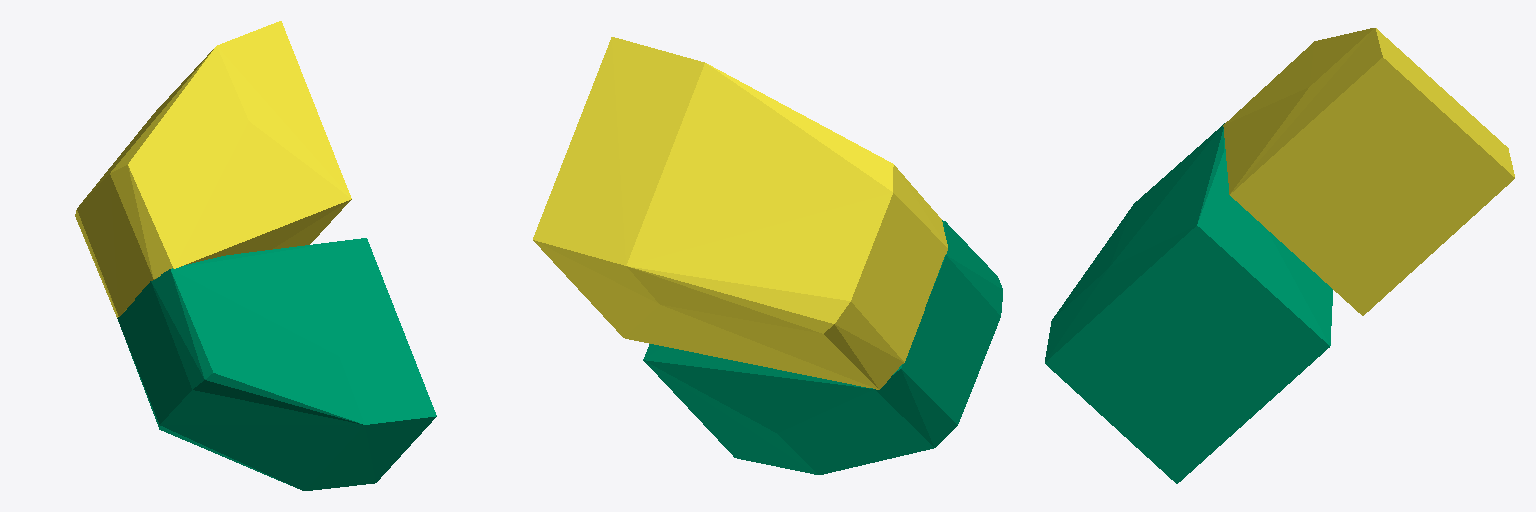
URDF robot description (panda):
<?xml version="1.0" ?>
<!-- =================================================================================== -->
<!-- |    This document was autogenerated by xacro from panda_arm_hand.urdf.xacro      | -->
<!-- |    EDITING THIS FILE BY HAND IS NOT RECOMMENDED                                 | -->
<!-- =================================================================================== -->
<robot name="panda" xmlns:xacro="http://www.ros.org/wiki/xacro">
  <link name="panda_link0">
    <visual>
      <geometry>
        <mesh filename="package://franka_description/meshes/visual/link0.dae"/>
      </geometry>
    </visual>
    <collision>
      <geometry>
        <mesh filename="package://franka_description/meshes/collision/link0.stl"/>
      </geometry>
    </collision>
  </link>
  <link name="panda_link1">
    <visual>
      <geometry>
        <mesh filename="package://franka_description/meshes/visual/link1.dae"/>
      </geometry>
    </visual>
    <collision>
      <geometry>
        <mesh filename="package://franka_description/meshes/collision/link1.stl"/>
      </geometry>
    </collision>
  </link>
  <joint name="panda_joint1" type="revolute">
    <safety_controller k_position="100.0" k_velocity="40.0" soft_lower_limit="-2.8973" soft_upper_limit="2.8973"/>
    <origin rpy="0 0 0" xyz="0 0 0.333"/>
    <parent link="panda_link0"/>
    <child link="panda_link1"/>
    <axis xyz="0 0 1"/>
    <limit effort="87" lower="-2.8973" upper="2.8973" velocity="2.1750"/>
  </joint>
  <link name="panda_link2">
    <visual>
      <geometry>
        <mesh filename="package://franka_description/meshes/visual/link2.dae"/>
      </geometry>
    </visual>
    <collision>
      <geometry>
        <mesh filename="package://franka_description/meshes/collision/link2.stl"/>
      </geometry>
    </collision>
  </link>
  <joint name="panda_joint2" type="revolute">
    <safety_controller k_position="100.0" k_velocity="40.0" soft_lower_limit="-1.7628" soft_upper_limit="1.7628"/>
    <origin rpy="-1.57079632679 0 0" xyz="0 0 0"/>
    <parent link="panda_link1"/>
    <child link="panda_link2"/>
    <axis xyz="0 0 1"/>
    <limit effort="87" lower="-1.7628" upper="1.7628" velocity="2.1750"/>
  </joint>
  <link name="panda_link3">
    <visual>
      <geometry>
        <mesh filename="package://franka_description/meshes/visual/link3.dae"/>
      </geometry>
    </visual>
    <collision>
      <geometry>
        <mesh filename="package://franka_description/meshes/collision/link3.stl"/>
      </geometry>
    </collision>
  </link>
  <joint name="panda_joint3" type="revolute">
    <safety_controller k_position="100.0" k_velocity="40.0" soft_lower_limit="-2.8973" soft_upper_limit="2.8973"/>
    <origin rpy="1.57079632679 0 0" xyz="0 -0.316 0"/>
    <parent link="panda_link2"/>
    <child link="panda_link3"/>
    <axis xyz="0 0 1"/>
    <limit effort="87" lower="-2.8973" upper="2.8973" velocity="2.1750"/>
  </joint>
  <link name="panda_link4">
    <visual>
      <geometry>
        <mesh filename="package://franka_description/meshes/visual/link4.dae"/>
      </geometry>
    </visual>
    <collision>
      <geometry>
        <mesh filename="package://franka_description/meshes/collision/link4.stl"/>
      </geometry>
    </collision>
  </link>
  <joint name="panda_joint4" type="revolute">
    <safety_controller k_position="100.0" k_velocity="40.0" soft_lower_limit="-3.0718" soft_upper_limit="-0.0698"/>
    <origin rpy="1.57079632679 0 0" xyz="0.0825 0 0"/>
    <parent link="panda_link3"/>
    <child link="panda_link4"/>
    <axis xyz="0 0 1"/>
    <limit effort="87" lower="-3.0718" upper="-0.0698" velocity="2.1750"/>
  </joint>
  <link name="panda_link5">
    <visual>
      <geometry>
        <mesh filename="package://franka_description/meshes/visual/link5.dae"/>
      </geometry>
    </visual>
    <collision>
      <geometry>
        <mesh filename="package://franka_description/meshes/collision/link5.stl"/>
      </geometry>
    </collision>
  </link>
  <joint name="panda_joint5" type="revolute">
    <safety_controller k_position="100.0" k_velocity="40.0" soft_lower_limit="-2.8973" soft_upper_limit="2.8973"/>
    <origin rpy="-1.57079632679 0 0" xyz="-0.0825 0.384 0"/>
    <parent link="panda_link4"/>
    <child link="panda_link5"/>
    <axis xyz="0 0 1"/>
    <limit effort="12" lower="-2.8973" upper="2.8973" velocity="2.6100"/>
  </joint>
  <link name="panda_link6">
    <visual>
      <geometry>
        <mesh filename="package://franka_description/meshes/visual/link6.dae"/>
      </geometry>
    </visual>
    <collision>
      <geometry>
        <mesh filename="package://franka_description/meshes/collision/link6.stl"/>
      </geometry>
    </collision>
  </link>
  <joint name="panda_joint6" type="revolute">
    <safety_controller k_position="100.0" k_velocity="40.0" soft_lower_limit="-0.0175" soft_upper_limit="3.7525"/>
    <origin rpy="1.57079632679 0 0" xyz="0 0 0"/>
    <parent link="panda_link5"/>
    <child link="panda_link6"/>
    <axis xyz="0 0 1"/>
    <limit effort="12" lower="-0.0175" upper="3.7525" velocity="2.6100"/>
  </joint>
  <link name="panda_link7">
    <visual>
      <geometry>
        <mesh filename="package://franka_description/meshes/visual/link7.dae"/>
      </geometry>
    </visual>
    <collision>
      <geometry>
        <mesh filename="package://franka_description/meshes/collision/link7.stl"/>
      </geometry>
    </collision>
  </link>
  <joint name="panda_joint7" type="revolute">
    <safety_controller k_position="100.0" k_velocity="40.0" soft_lower_limit="-2.8973" soft_upper_limit="2.8973"/>
    <origin rpy="1.57079632679 0 0" xyz="0.088 0 0"/>
    <parent link="panda_link6"/>
    <child link="panda_link7"/>
    <axis xyz="0 0 1"/>
    <limit effort="12" lower="-2.8973" upper="2.8973" velocity="2.6100"/>
  </joint>
  <link name="panda_link8"/>
  <joint name="panda_joint8" type="fixed">
    <origin rpy="0 0 0" xyz="0 0 0.107"/>
    <parent link="panda_link7"/>
    <child link="panda_link8"/>
    <axis xyz="0 0 0"/>
  </joint>
  <joint name="panda_hand_joint" type="fixed">
    <parent link="panda_link8"/>
    <child link="panda_hand"/>
    <origin rpy="0 0 -0.785398163397" xyz="0 0 0"/>
  </joint>
  <link name="panda_hand">
    <visual>
      <geometry>
        <mesh filename="package://franka_description/meshes/visual/hand.dae"/>
      </geometry>
    </visual>
    <collision>
      <geometry>
        <mesh filename="package://franka_description/meshes/collision/hand.stl"/>
      </geometry>
    </collision>
  </link>
  <link name="panda_leftfinger">
    <visual>
      <geometry>
        <mesh filename="package://franka_description/meshes/visual/big_finger.dae"/>
      </geometry>
    </visual>
    <collision>
      <geometry>
        <mesh filename="package://franka_description/meshes/collision/big_finger.stl"/>
      </geometry>
    </collision>
  </link>
  <link name="panda_rightfinger">
    <visual>
      <origin rpy="0 0 3.14159265359" xyz="0 0 0"/>
      <geometry>
        <mesh filename="package://franka_description/meshes/visual/big_finger.dae"/>
      </geometry>
    </visual>
    <collision>
      <origin rpy="0 0 3.14159265359" xyz="0 0 0"/>
      <geometry>
        <mesh filename="package://franka_description/meshes/collision/big_finger.stl"/>
      </geometry>
    </collision>
  </link>
  <joint name="panda_finger_joint1" type="prismatic">
    <parent link="panda_hand"/>
    <child link="panda_leftfinger"/>
    <origin rpy="0 0 0" xyz="0 0 0.0584"/>
    <axis xyz="0 1 0"/>
    <limit effort="20" lower="0.0" upper="0.04" velocity="0.2"/>
  </joint>
  <joint name="panda_finger_joint2" type="prismatic">
    <parent link="panda_hand"/>
    <child link="panda_rightfinger"/>
    <origin rpy="0 0 0" xyz="0 0 0.0584"/>
    <axis xyz="0 -1 0"/>
    <limit effort="20" lower="0.0" upper="0.04" velocity="0.2"/>
    <mimic joint="panda_finger_joint1"/>
  </joint>
  <link name="tool_link"/>
  <joint name="tool_joint" type="fixed">
    <origin rpy="0 0 2.35619449019" xyz="0.0 0 0.1"/>
    <axis xyz="0 0 1"/>
    <parent link="panda_link8"/>
    <child link="tool_link"/>
  </joint>
</robot>

--- Facts derived from the render (not from the file) ---
Views: 3 orthographic renders of the robot side by side, from view 1: azimuth 30°, elevation 25°; view 2: azimuth 150°, elevation 25°; view 3: azimuth 270°, elevation 25°.
Robot: panda — 13 links, 12 joints (7 revolute, 2 prismatic, 3 fixed); root link panda_link0; default pose: joints at zero except 1 at the middle of their limits (panda_joint4 = -1.57).
Links seen in each view (by area): view 1: panda_leftfinger, panda_rightfinger; view 2: panda_rightfinger, panda_leftfinger; view 3: panda_leftfinger, panda_rightfinger.
Boxes of the visible links, left/top/right/bottom form: panda_leftfinger: left=117, top=238, right=436, bottom=490; panda_rightfinger: left=75, top=21, right=351, bottom=317; panda_rightfinger: left=533, top=37, right=947, bottom=389; panda_leftfinger: left=643, top=220, right=1002, bottom=474; panda_leftfinger: left=1045, top=123, right=1332, bottom=483; panda_rightfinger: left=1223, top=28, right=1514, bottom=315.
Size in the robot's own frame: 0.0537 by 0.1038 by 0.104 metres.
Meshes: 10 distinct files referenced, 2 mesh visuals loaded (1 Collada DAE); not drawn: 9 (reference not matched to a file when rendering).